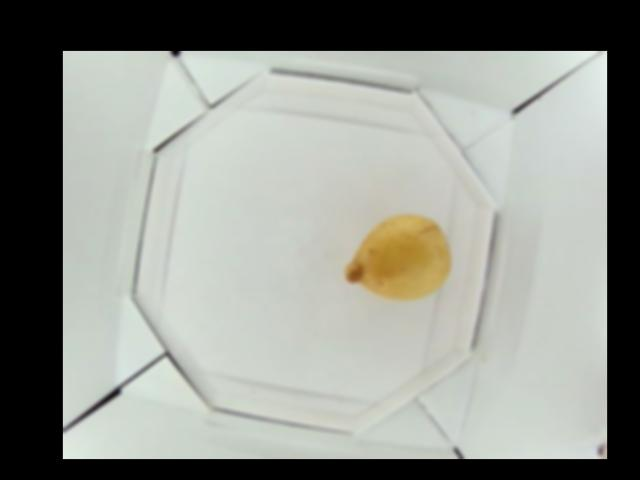Potato: (341, 214, 450, 303)
